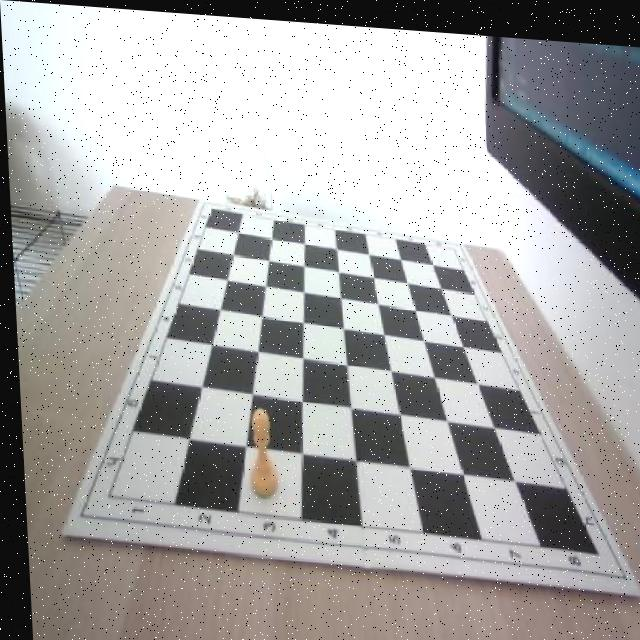white-knight: (242, 401, 275, 496)
